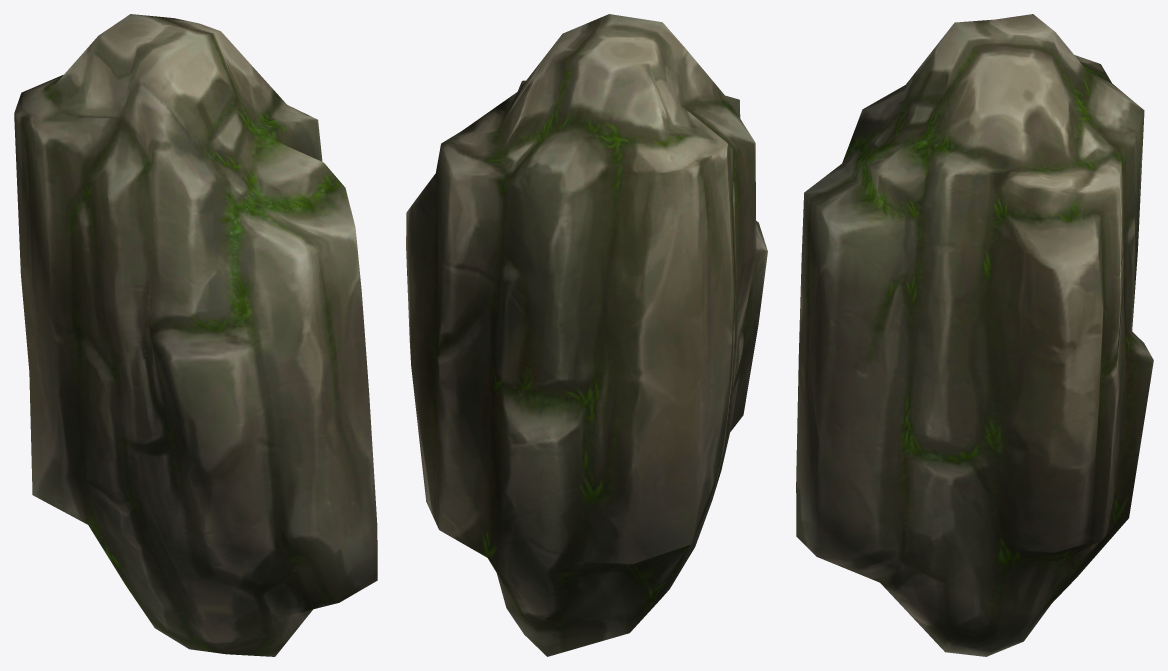
File: RockFormation_4_2 (41).fbx
The picture shows the model from 3 angles, left to right: view 1: azimuth 30°, elevation 25°; view 2: azimuth 150°, elevation 25°; view 3: azimuth 270°, elevation 25°; orthographic projection. The views are drawn at different scales.
Visible parts, largest first — view 1: RockFormation_4_2 (41); view 2: RockFormation_4_2 (41); view 3: RockFormation_4_2 (41).
Boxes of the visible parts, x1,y1,x2,y2 form: RockFormation_4_2 (41): [14, 14, 377, 656]; RockFormation_4_2 (41): [406, 14, 767, 656]; RockFormation_4_2 (41): [796, 14, 1153, 656].
Size of the model in its own units: 85.49 by 179 by 97.5.
